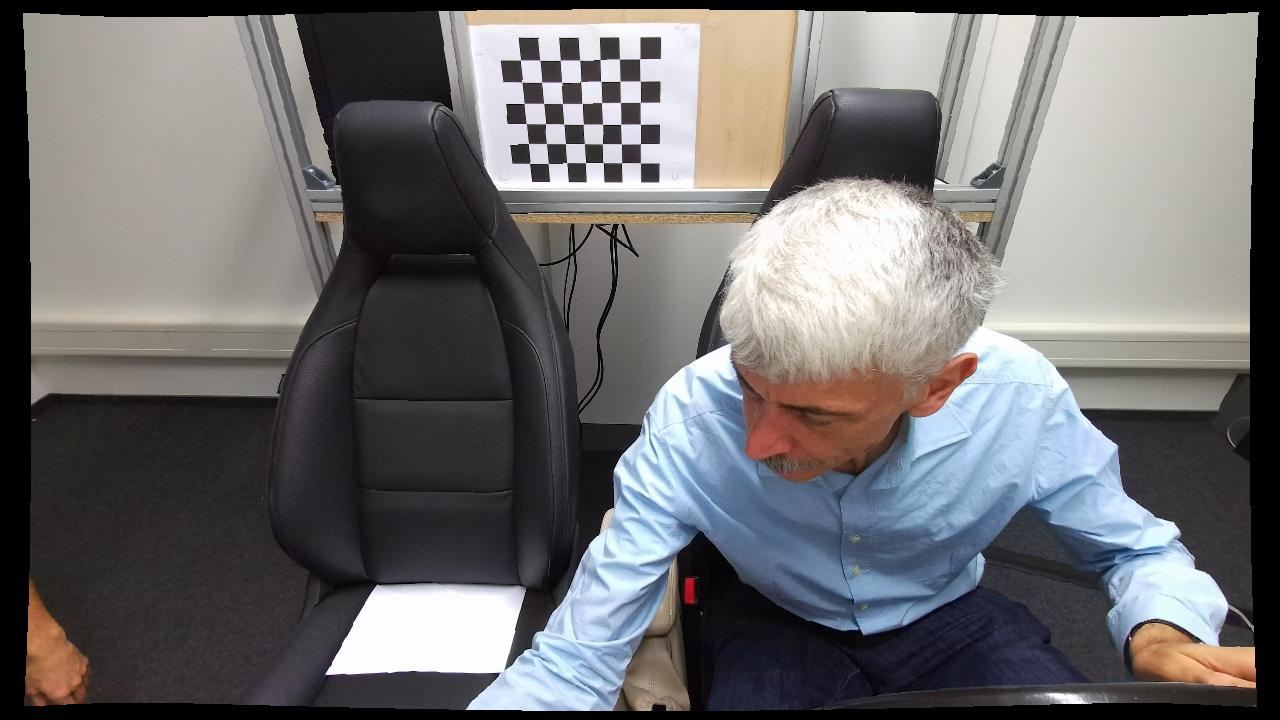Distracted: (465, 169, 1098, 709)
